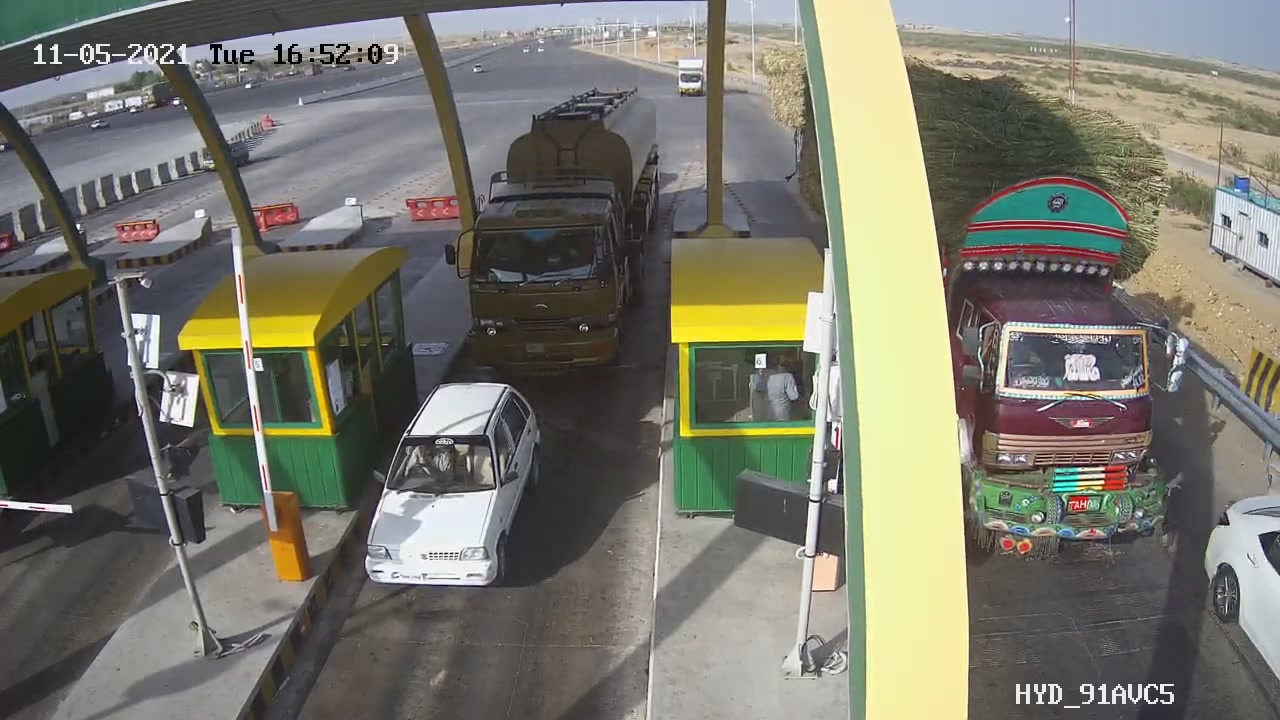F1: (341, 368, 559, 606)
F6: (463, 72, 666, 377)
